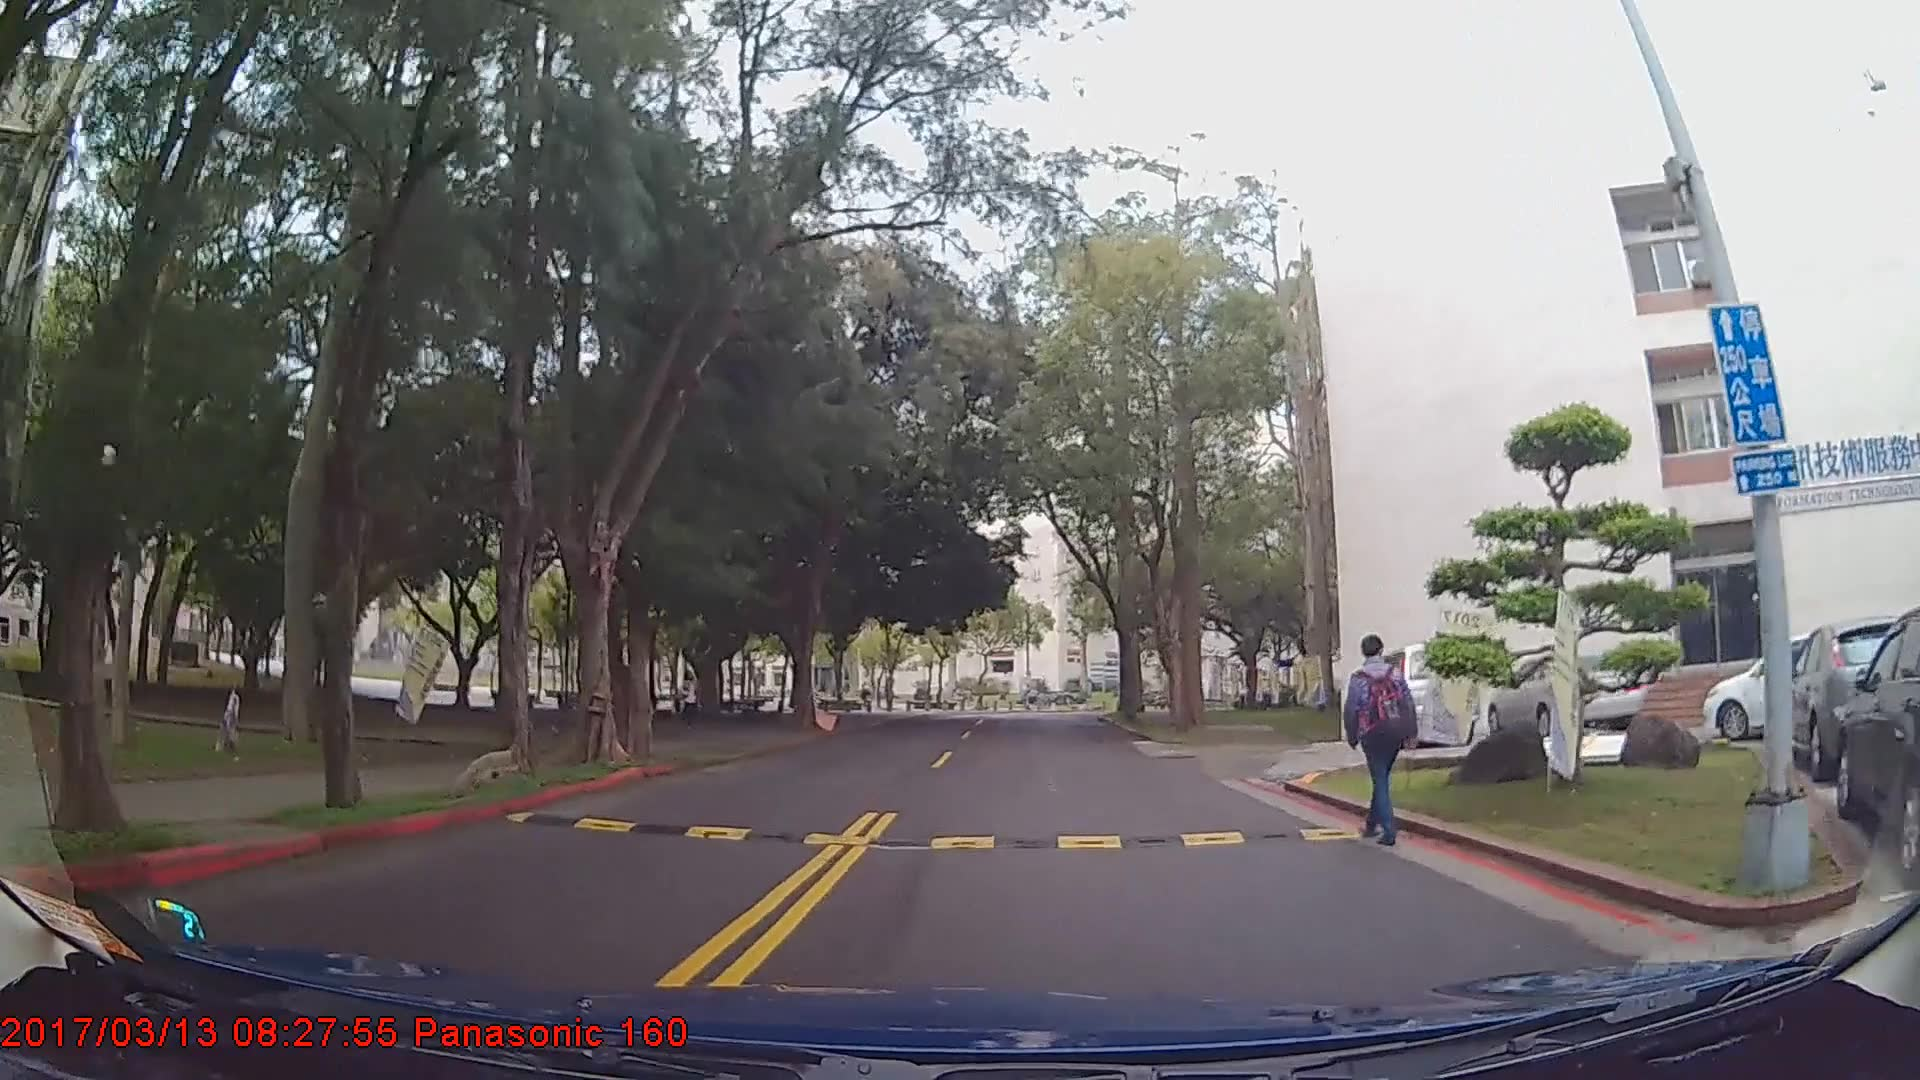pedestrian: (1340, 627, 1419, 845), (677, 669, 704, 732)
